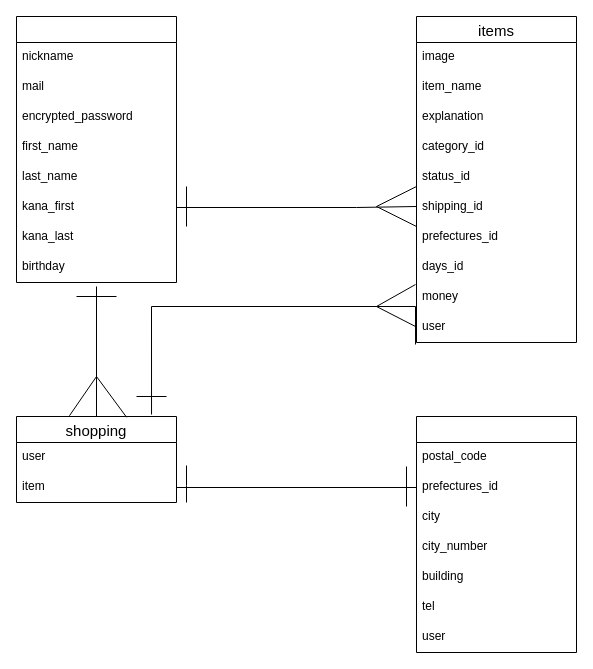
Some shapes in this 593 by 669 pixel diagram are drawn without their labels. Here are the shapes that lost their labels. From the top down, the box of each, then its label:
(16, 16, 176, 282): users
(416, 416, 576, 652): address
